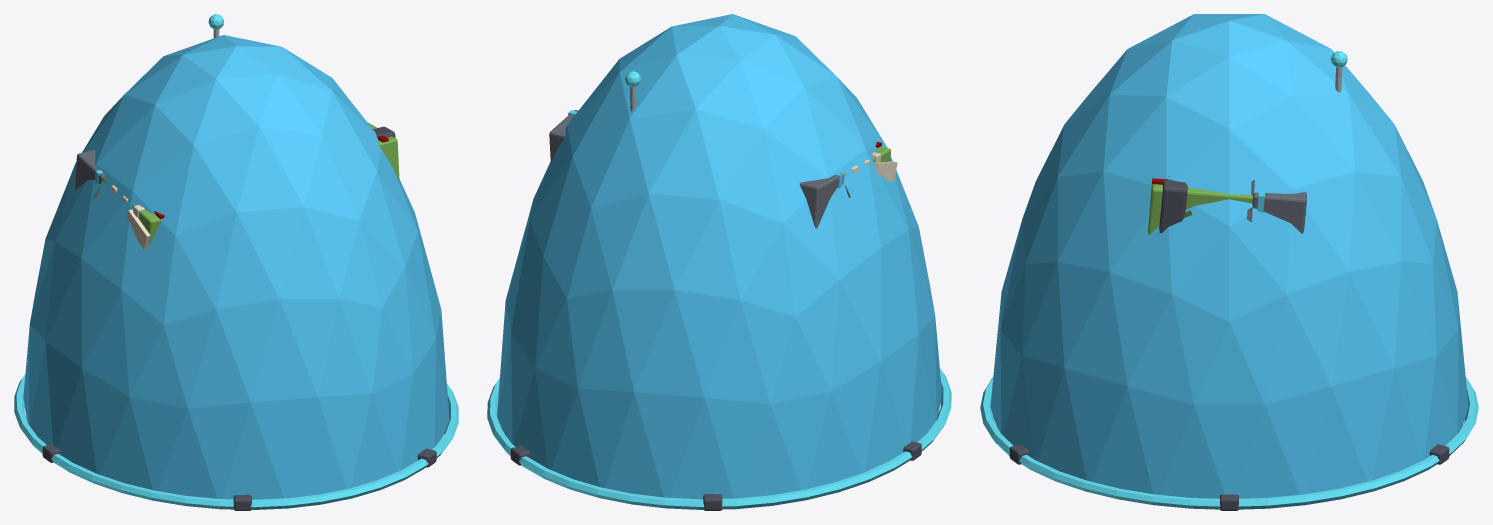
Rendered from zombi_generador.glb.
3 renders of one model, left to right at view 1: azimuth 30°, elevation 25°; view 2: azimuth 150°, elevation 25°; view 3: azimuth 270°, elevation 25°, orthographic. The views are drawn at different scales.
Visible parts, largest first — view 1: Escudo, RightArm, LeftArm; view 2: Escudo, RightArm, LeftArm; view 3: Escudo, LeftArm.
Part boxes in pixels (box(x1,y1,x2,y2)): Escudo: box(14, 35, 458, 510); RightArm: box(75, 149, 164, 249); LeftArm: box(367, 122, 399, 182); Escudo: box(487, 14, 951, 510); RightArm: box(799, 141, 897, 228); LeftArm: box(549, 110, 578, 163); Escudo: box(980, 14, 1478, 510); LeftArm: box(1148, 175, 1306, 234).
Bounding box in the file's own units: 6.05 × 5.61 × 6.45.
Materials: 1 (1 with a texture image).
